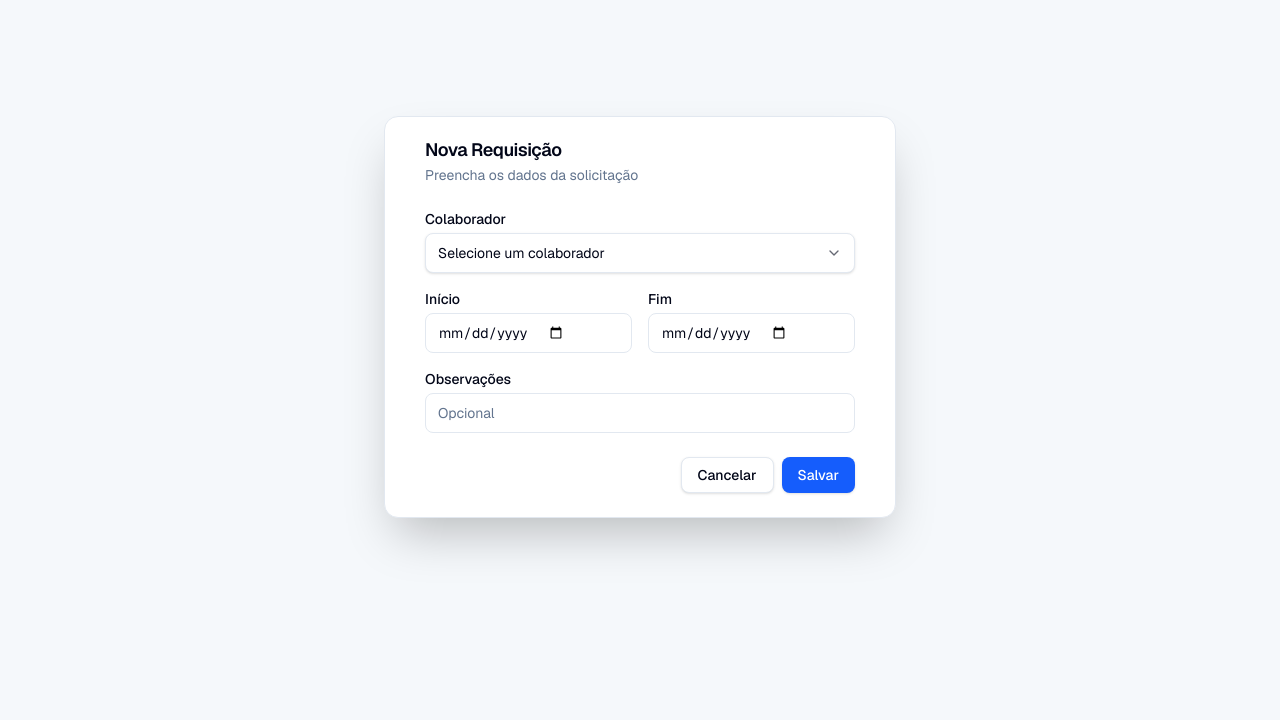
Test: NewRequestModal › abre o select e mostra colaboradores quando canPickCollaborator
Click the dropdown at point(521, 253), box [425, 233, 855, 273]
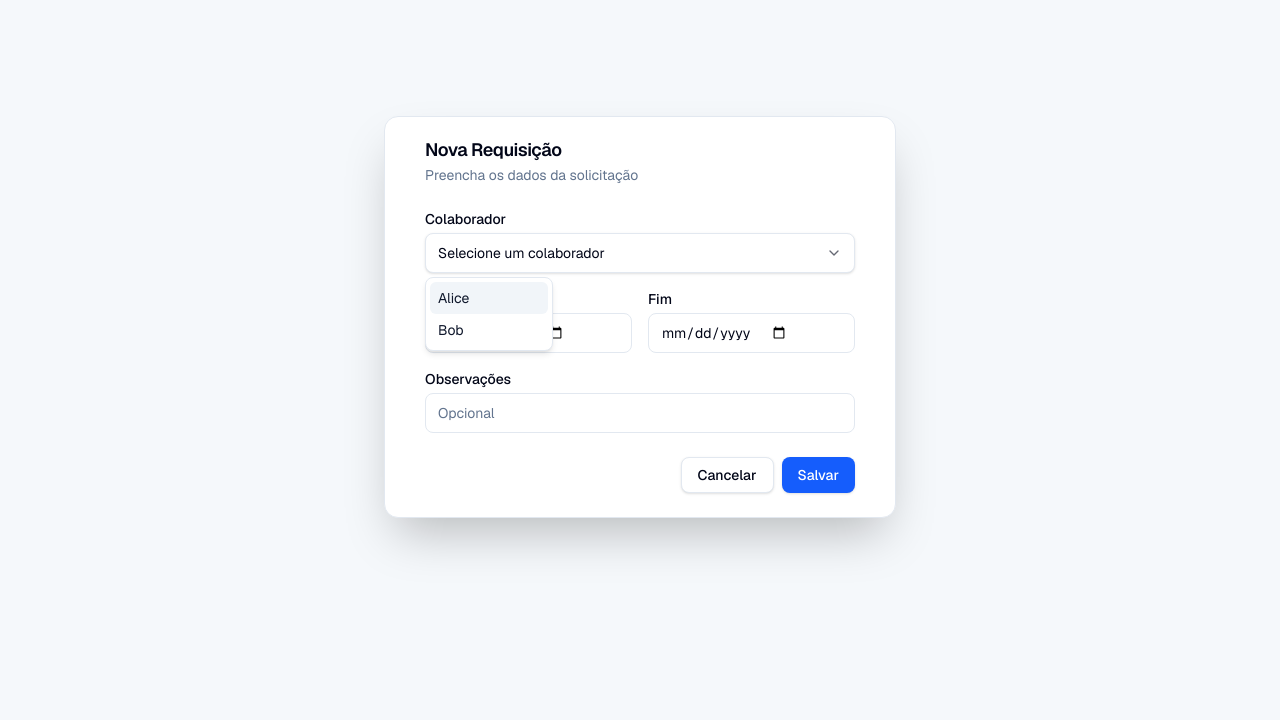
Result: the text "Alice" is shown at [438, 288, 469, 308]
Result: the text "Bob" is shown at [438, 320, 464, 340]
